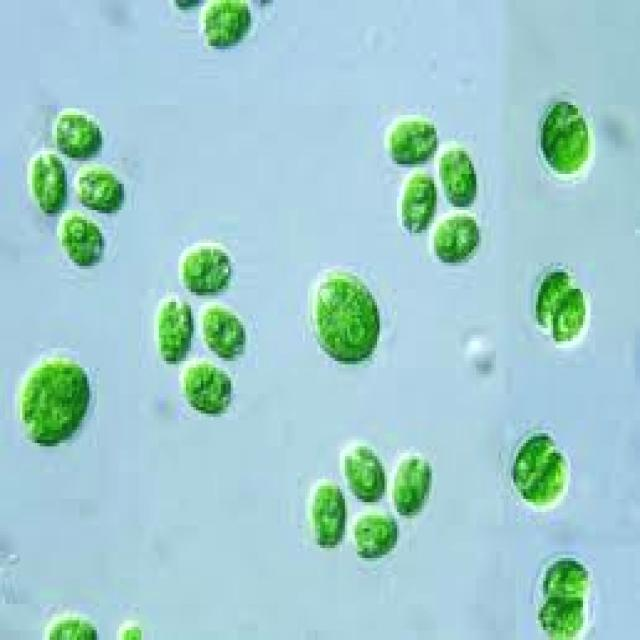Green Algae: (308, 269, 384, 368), (17, 352, 94, 446), (536, 88, 595, 180), (178, 354, 236, 414), (424, 210, 486, 263), (72, 158, 129, 214), (55, 207, 106, 269), (151, 289, 191, 364), (340, 436, 387, 499), (390, 450, 434, 515), (308, 479, 347, 552), (385, 112, 439, 164), (179, 240, 233, 292), (49, 109, 106, 158), (201, 299, 246, 361), (436, 141, 478, 207), (347, 509, 402, 558), (27, 148, 64, 220), (524, 446, 566, 506), (536, 594, 590, 640), (395, 167, 434, 230), (541, 548, 590, 597), (201, 4, 253, 49), (533, 263, 568, 328), (551, 286, 588, 344), (514, 427, 553, 482)
